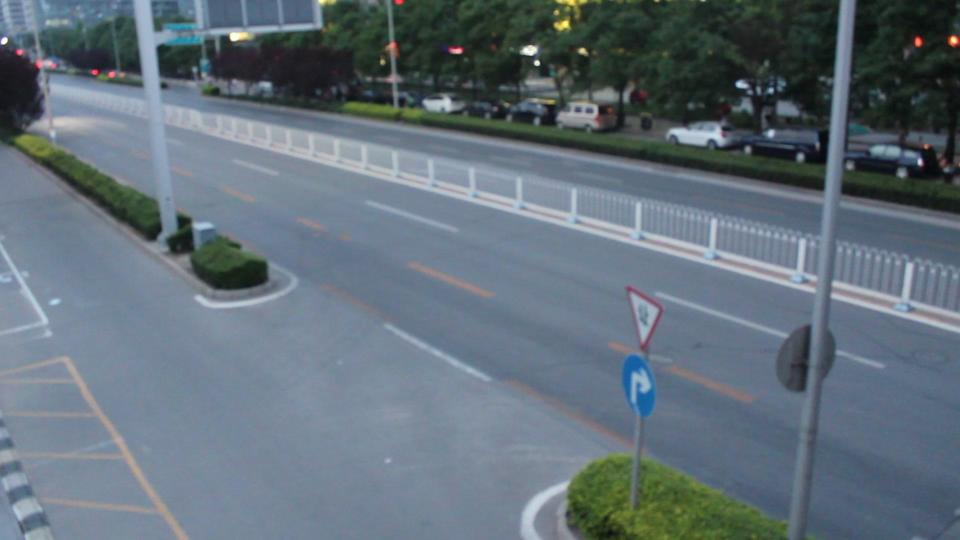car: (845, 136, 945, 179), (742, 127, 826, 163), (663, 121, 752, 151), (557, 102, 621, 133), (507, 99, 559, 125), (422, 94, 467, 115), (465, 100, 509, 119)
sign: (624, 285, 670, 348), (619, 355, 658, 419)
